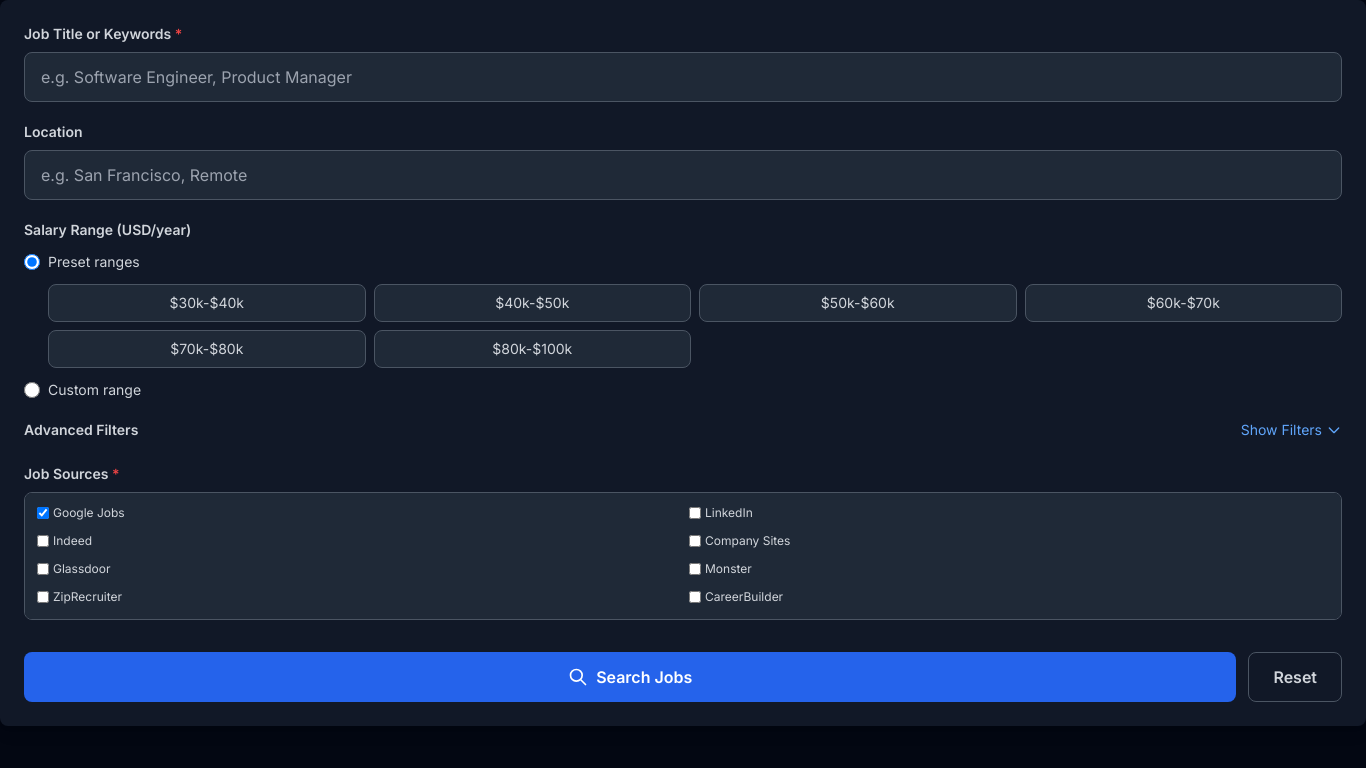
it: EnhancedSearchForm › autocomplete › should show job title suggestions
Type "soft" into the field labelled "Job Title or Keywords *".
click(683, 77); type("soft")  # box [24,52,1342,102]
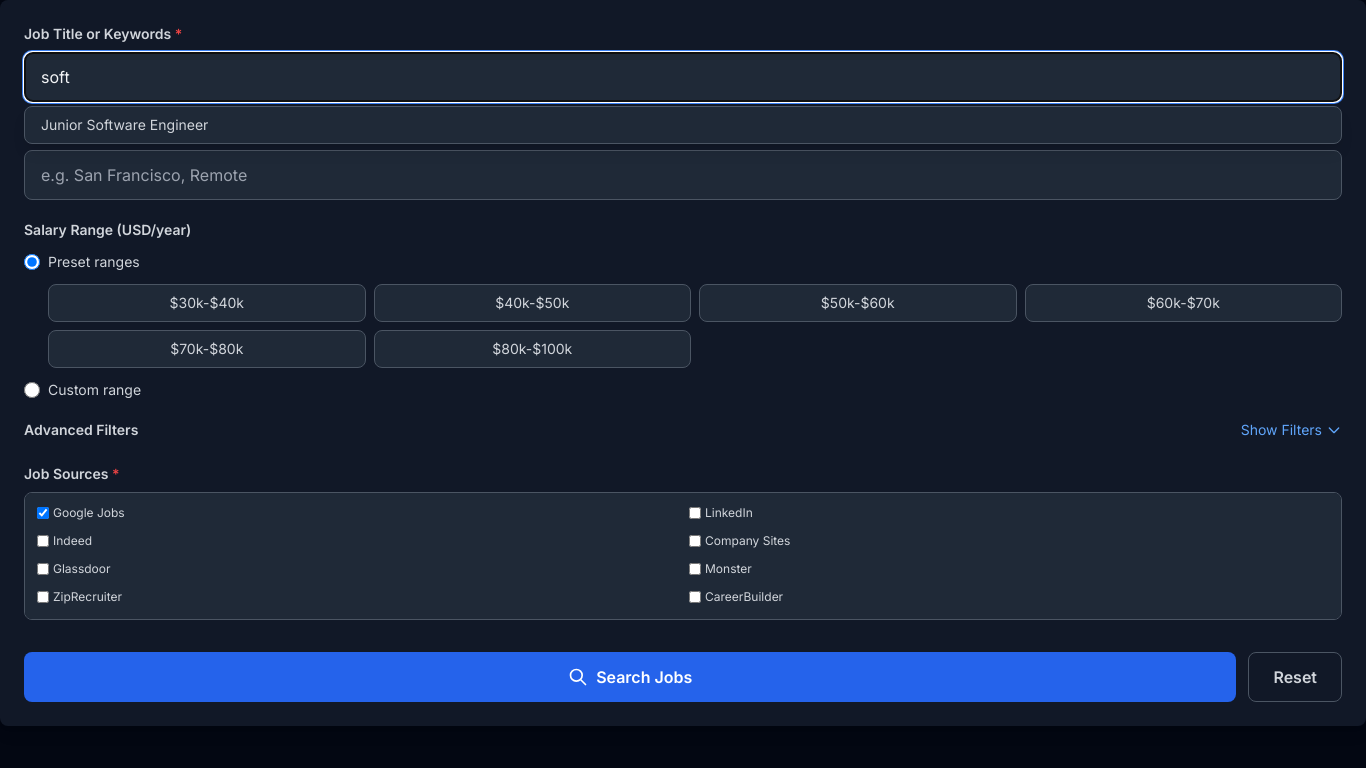
Expected: the button "Junior Software Engineer" is shown, [25,107,1341,143]
